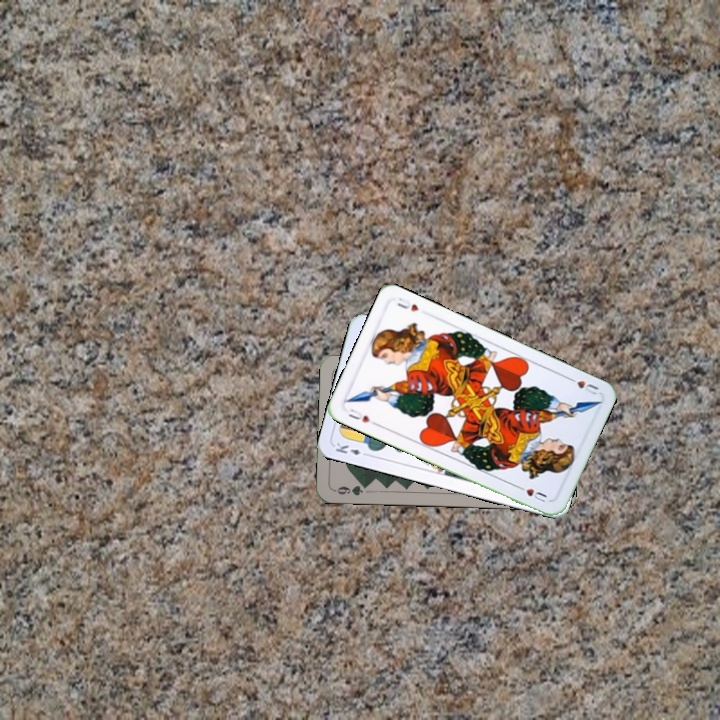EK: (331, 438, 372, 459)
G9: (331, 480, 371, 498)
HU: (563, 373, 601, 398), (344, 404, 380, 428)
